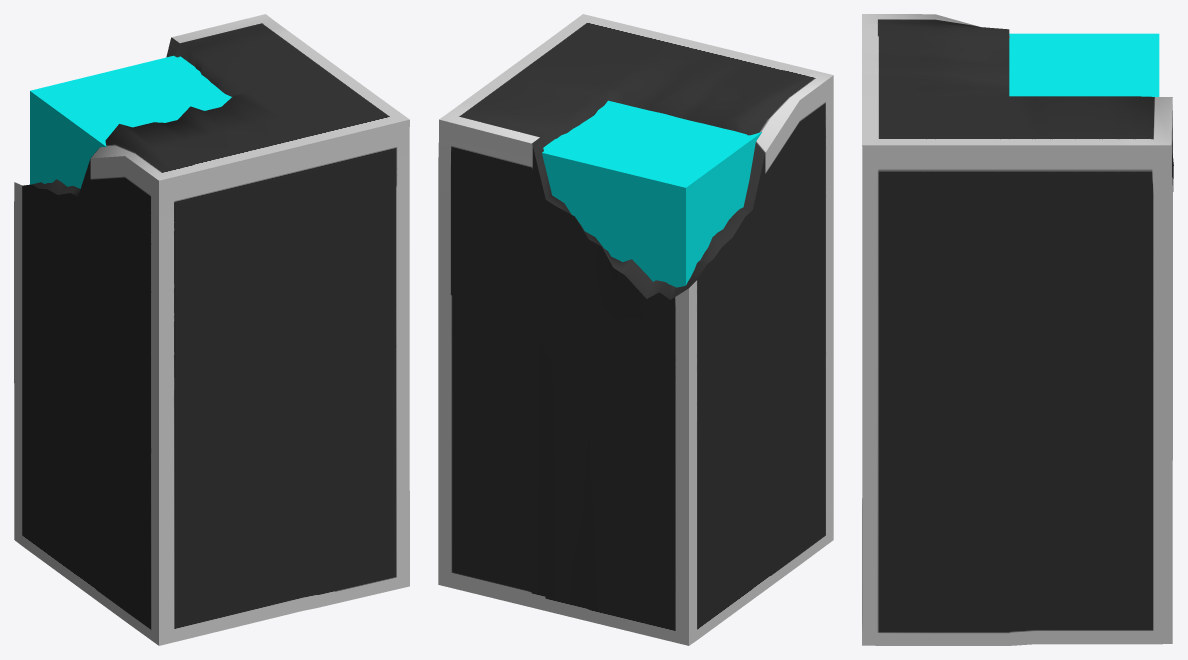
File: Cracked-wall-01.fbx
3 renders of one model, left to right at view 1: azimuth 30°, elevation 25°; view 2: azimuth 150°, elevation 25°; view 3: azimuth 270°, elevation 25°, orthographic. The views are drawn at different scales.
Parts seen in each view (by area): view 1: pCube29, pCube31; view 2: pCube29, pCube31; view 3: pCube29, pCube31.
Part boxes in pixels (x1,y1,x2,y2): pCube29: (14, 14, 409, 645); pCube31: (30, 55, 231, 188); pCube29: (438, 14, 833, 645); pCube31: (542, 100, 761, 287); pCube29: (862, 14, 1173, 645); pCube31: (1009, 33, 1159, 96).
Size of the model in its own units: 2 by 3.56 by 2.01.
